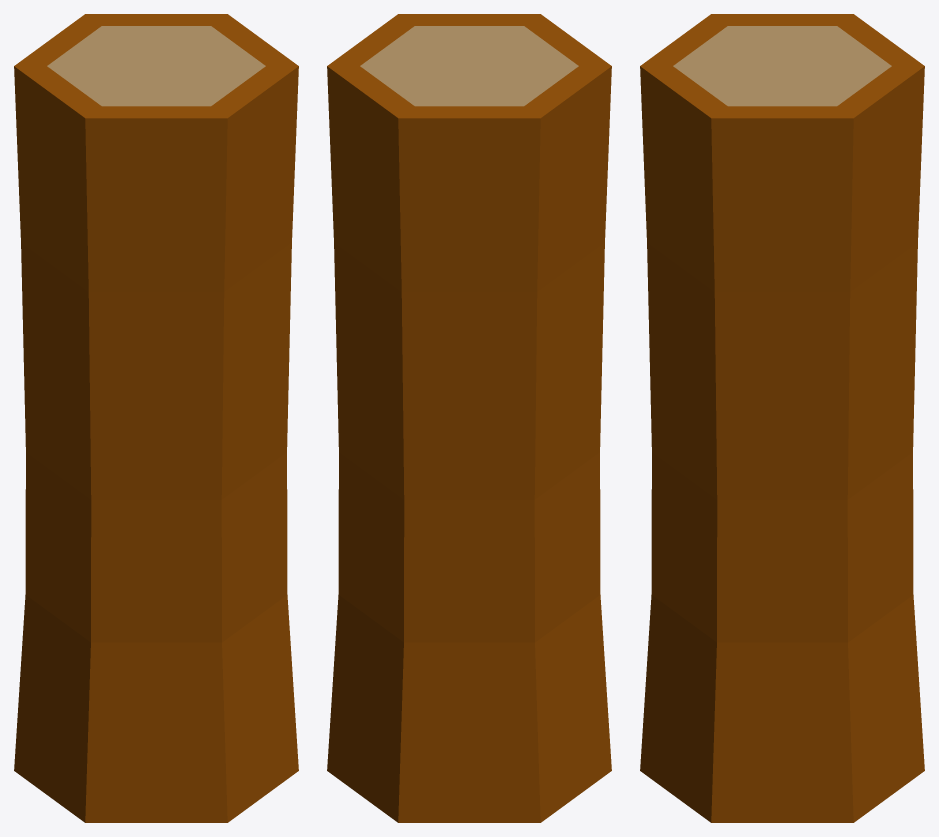
Rendered from woodLog.fbx.
3 views of the same model, side by side, from view 1: azimuth 30°, elevation 25°; view 2: azimuth 150°, elevation 25°; view 3: azimuth 270°, elevation 25° (orthographic).
Parts seen in each view (by area): view 1: WoodLog; view 2: WoodLog; view 3: WoodLog.
Boxes of the visible parts, x1,y1,x2,y2 form: WoodLog: (14,14,298,822); WoodLog: (327,14,611,822); WoodLog: (640,14,924,822).
Size of the model in its own units: 0.6345 by 2 by 0.7327.
